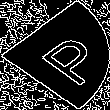P_NW: (12, 24, 98, 86)
